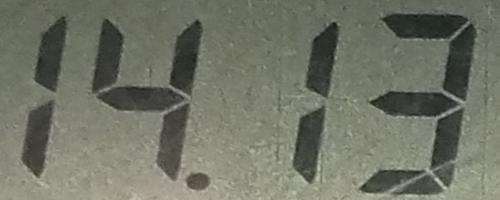.: (185, 168, 214, 193)
